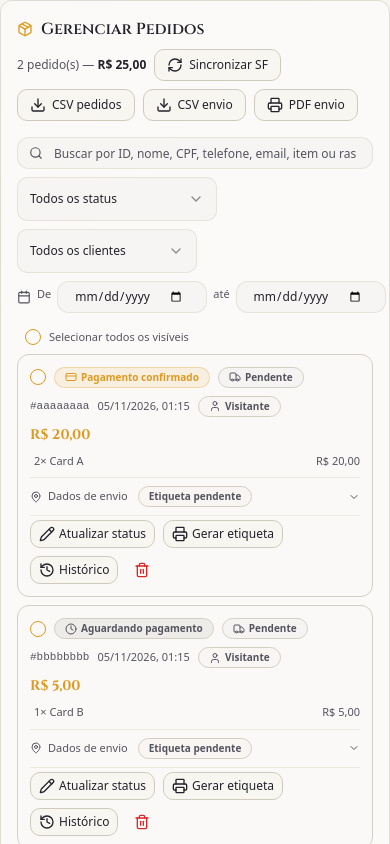
Test case: AdminOrdersPanel — delete restock warning › indicates no restock is needed when deleting a pending_payment order
The image size is (390, 844).
Click the button named "Remover pedido" below "Card B": x=142, y=822 x1=126 y1=808 x2=158 y2=836
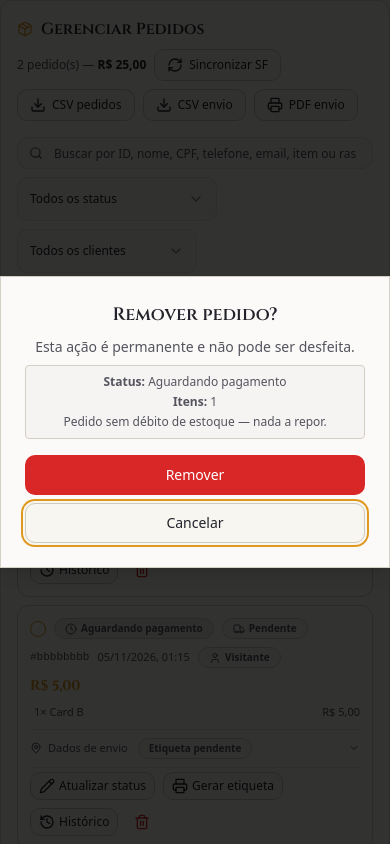
Expected: the text "sem débito de estoque" is shown, x1=63 y1=413 x2=327 y2=430
